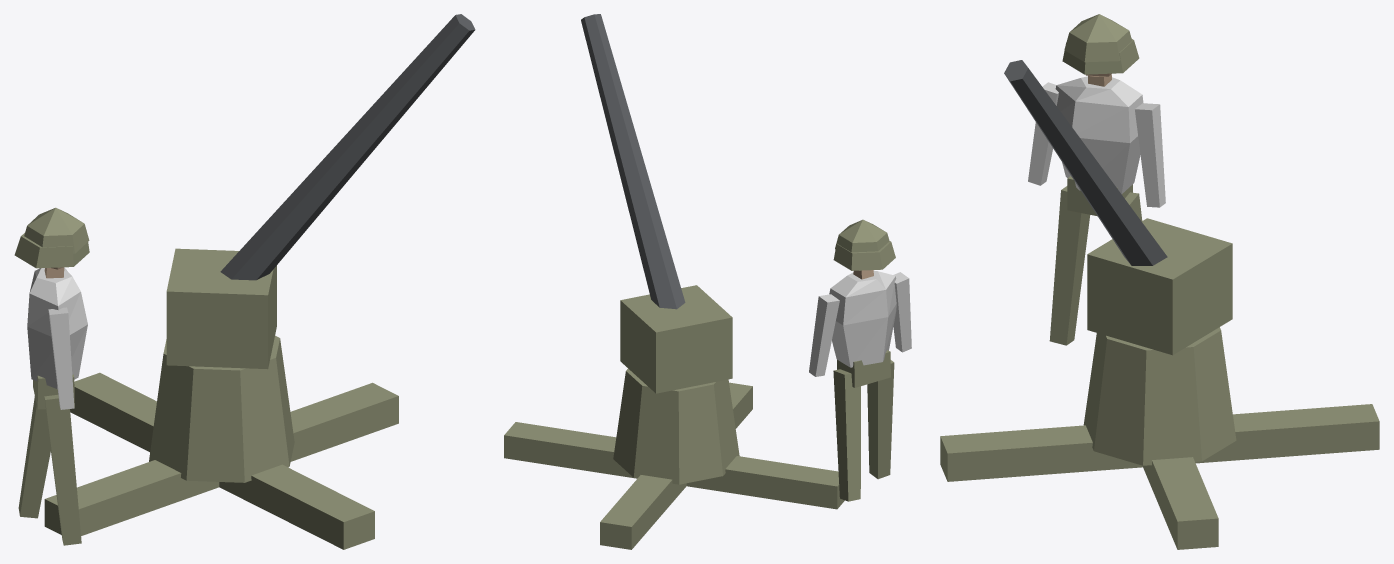
File: anti-aircraft-gun.glb
The picture shows the model from 3 angles, left to right: view 1: azimuth 30°, elevation 25°; view 2: azimuth 150°, elevation 25°; view 3: azimuth 270°, elevation 25°; orthographic projection. The views are drawn at different scales.
Visible parts, largest first — view 1: LOD0; view 2: LOD0; view 3: LOD0.
Boxes of the visible parts, x1,y1,x2,y2 form: LOD0: (14,14,475,549); LOD0: (504,14,911,549); LOD0: (940,14,1379,549).
Size of what is drawn, in the model's own units: 0.9376 by 1.02 by 0.8411.
